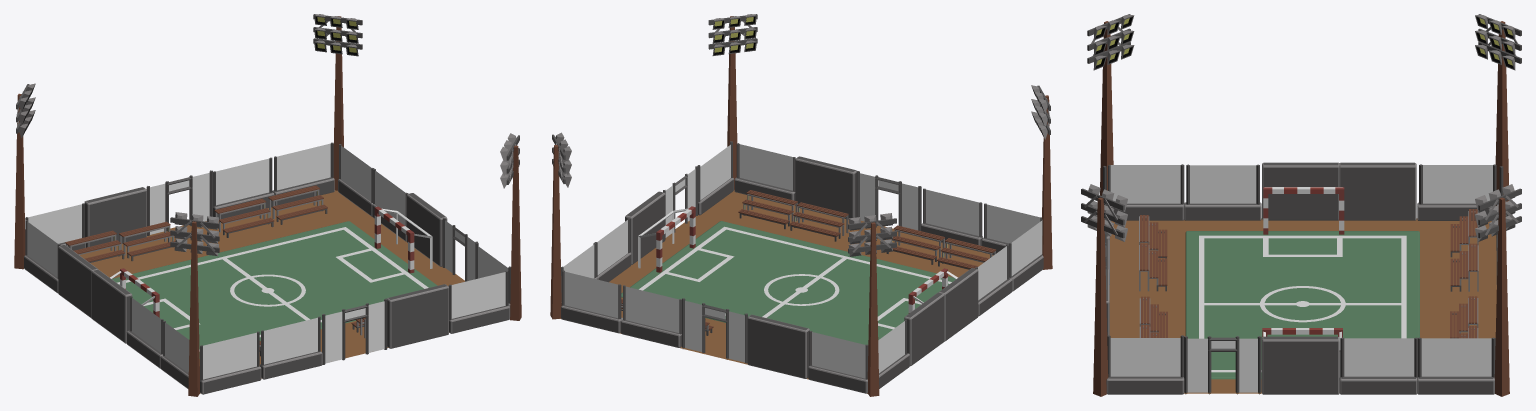
The model's file is FootballStadium.fbx.
3 views of the same model, side by side, from view 1: azimuth 30°, elevation 25°; view 2: azimuth 150°, elevation 25°; view 3: azimuth 270°, elevation 25° (orthographic). The views are drawn at different scales.
Visible parts, largest first — view 1: Plane.001, Cube.048, Plane.003, Cube.033, Cube.041, Cube.034, Plane.002, Cube.042, Cube.030, Cube.036, Cube.028, Cube.032 (+27 smaller); view 2: Plane.001, Cube.048, Plane.003, Cube.041, Cube.033, Plane.002, Cube.042, Cube.034, Cube.036, Cube.030, Cube.032, Cube.040 (+28 smaller); view 3: Plane.001, Plane.003, Cube.048, Cube.020, Cube.016, Cube.015, Plane.002, Cube.047, Cube.044, Cube.045, Cube.046, Cube.043 (+16 smaller).
Part boxes in pixels (box(x1,y1,x2,y2)): Plane.001: box(112, 221, 437, 358); Cube.048: box(14, 14, 521, 396); Plane.003: box(79, 190, 464, 393); Cube.033: box(387, 284, 448, 348); Cube.041: box(84, 187, 146, 247); Cube.034: box(322, 298, 387, 364); Plane.002: box(117, 227, 428, 351); Cube.042: box(146, 170, 212, 235); Cube.030: box(261, 316, 320, 365); Cube.036: box(274, 142, 333, 191); Cube.028: box(200, 331, 259, 380); Cube.032: box(448, 271, 508, 319); Plane.001: box(621, 221, 955, 344); Cube.048: box(550, 14, 1052, 396); Plane.003: box(559, 190, 993, 393); Cube.041: box(747, 314, 809, 378); Cube.033: box(795, 156, 856, 219); Plane.002: box(639, 226, 951, 329); Cube.042: box(682, 298, 747, 363); Cube.034: box(856, 171, 921, 230); Cube.036: box(562, 270, 621, 319); Cube.030: box(923, 188, 982, 237); Cube.032: box(736, 143, 795, 191); Cube.040: box(809, 331, 868, 379); Plane.001: box(1185, 231, 1419, 379); Plane.003: box(1109, 218, 1496, 393); Cube.048: box(1081, 14, 1521, 396); Cube.020: box(1262, 336, 1339, 394); Cube.016: box(1339, 162, 1416, 220); Cube.015: box(1262, 162, 1339, 220); Plane.002: box(1199, 235, 1406, 372); Cube.047: box(1184, 336, 1261, 394); Cube.044: box(1340, 337, 1417, 377); Cube.045: box(1418, 337, 1495, 377); Cube.046: box(1107, 335, 1184, 377); Cube.043: box(1419, 164, 1496, 204).
Size of the model in its own units: 2586 by 1255 by 2510.
2 materials, 1 textured.
